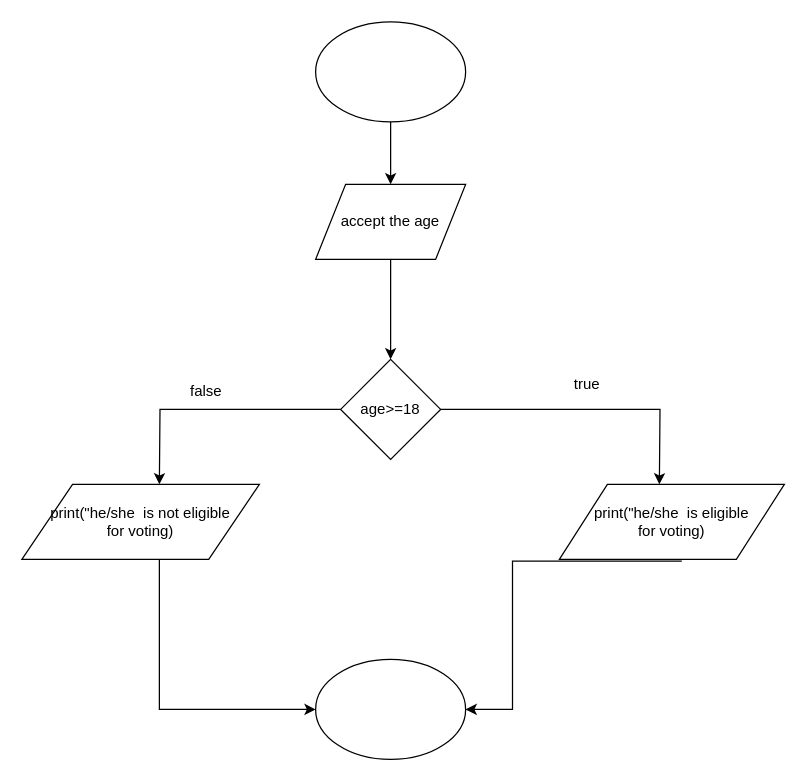
Image size: 806x781. Some labels were removed from this diagram. Each missing label, with the centre of its shape:
start: the point at 390,71
stop: the point at 390,708
